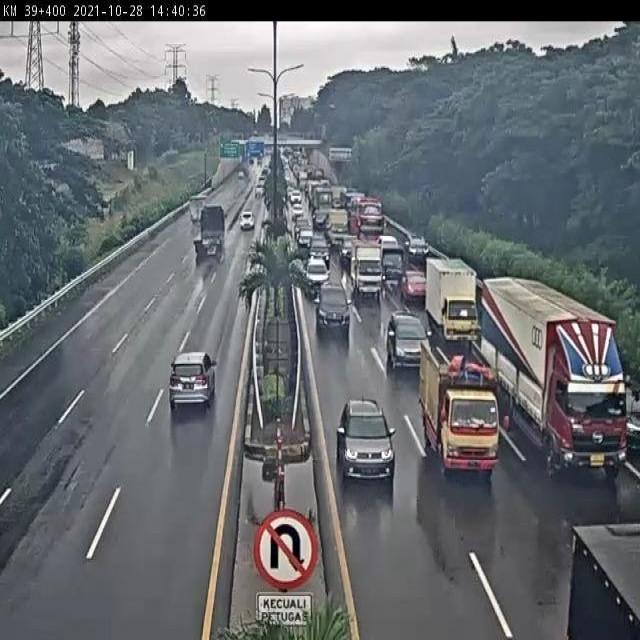big truck: (482, 274, 626, 474), (192, 206, 227, 262)
car: (338, 396, 397, 485), (168, 349, 216, 407), (384, 308, 427, 365), (314, 282, 348, 330), (304, 252, 332, 291), (378, 240, 404, 281), (401, 266, 429, 302), (239, 207, 257, 233)
small truck: (420, 338, 498, 473), (422, 256, 476, 336), (348, 235, 385, 300), (183, 194, 206, 230)
